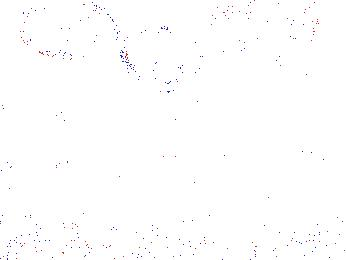moon jellyfish: (16, 1, 119, 59), (122, 27, 198, 93), (67, 72, 131, 138), (274, 8, 323, 78), (205, 5, 258, 59)
